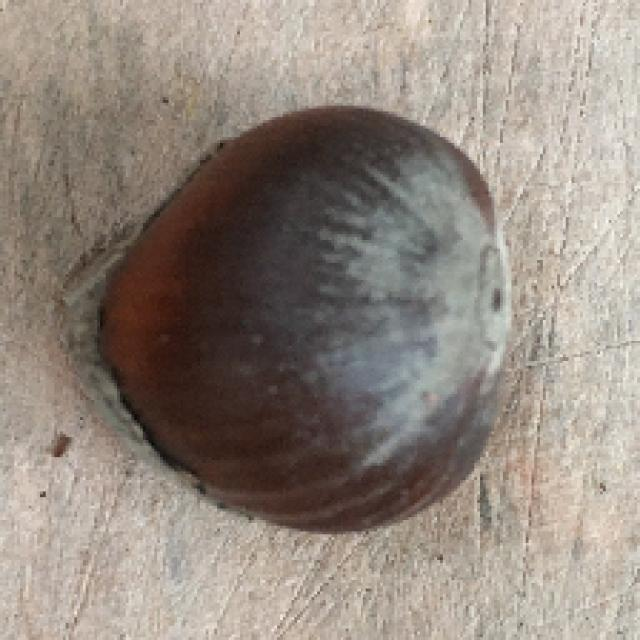damagedHazelnut: (47, 97, 540, 542)
